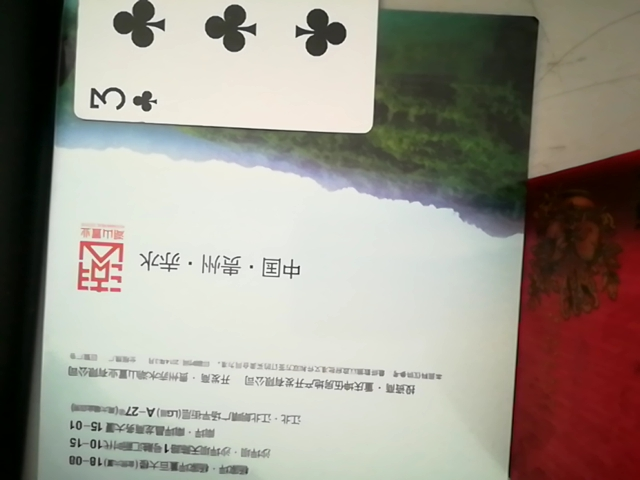mh 3: (69, 0, 385, 140)
